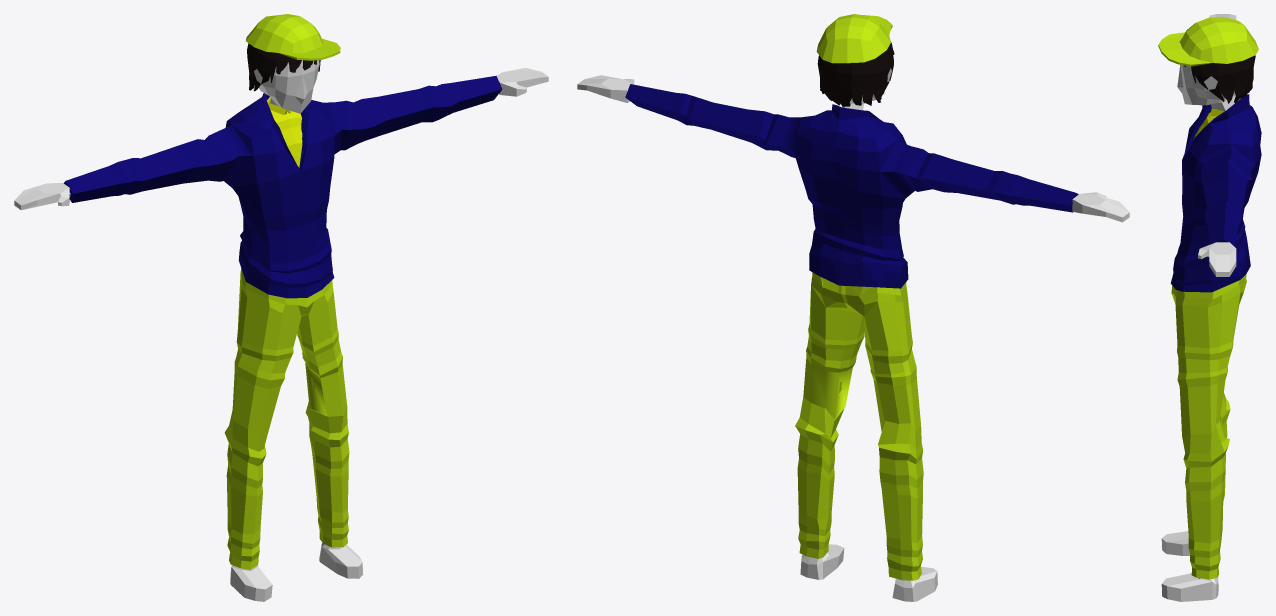
File: StealerFinish.fbx
3 views of the same model, side by side, from view 1: azimuth 30°, elevation 25°; view 2: azimuth 150°, elevation 25°; view 3: azimuth 270°, elevation 25° (orthographic). The views are drawn at different scales.
Parts seen in each view (by area): view 1: Jacket, Pants, StealerBody, Cap, Hair, ShirtCollar; view 2: Jacket, Pants, StealerBody, Hair, Cap; view 3: Pants, Jacket, StealerBody, Cap, Hair, ShirtCollar.
Boxes of the visible parts, x1,y1,x2,y2 form: Jacket: (63, 75, 502, 298); Pants: (224, 268, 349, 569); StealerBody: (14, 60, 548, 601); Cap: (246, 14, 340, 60); Hair: (247, 43, 320, 91); ShirtCollar: (267, 98, 302, 167); Jacket: (625, 84, 1078, 288); Pants: (795, 272, 923, 580); StealerBody: (577, 68, 1129, 601); Hair: (817, 41, 894, 106); Cap: (816, 14, 892, 63); Pants: (1171, 274, 1246, 579); Jacket: (1170, 94, 1261, 292); StealerBody: (1161, 14, 1240, 601); Cap: (1158, 17, 1258, 66); Hair: (1184, 55, 1255, 103); ShirtCollar: (1193, 108, 1224, 139).
Bounding box in the file's own units: 256 × 256 × 43.34.
